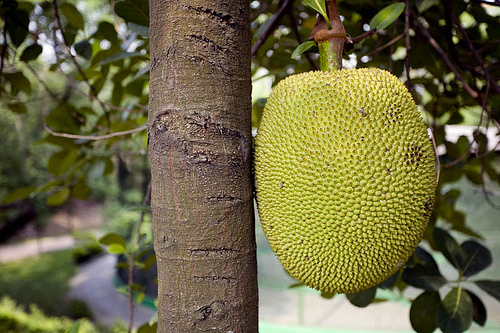jackfruit: (242, 0, 443, 298)
